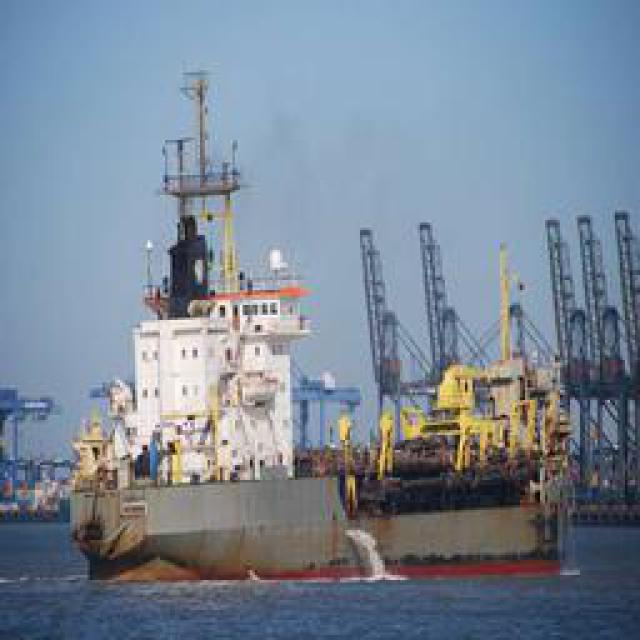Ship: (60, 269, 596, 594)
